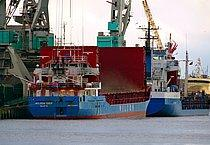Ship: (24, 50, 151, 121)
